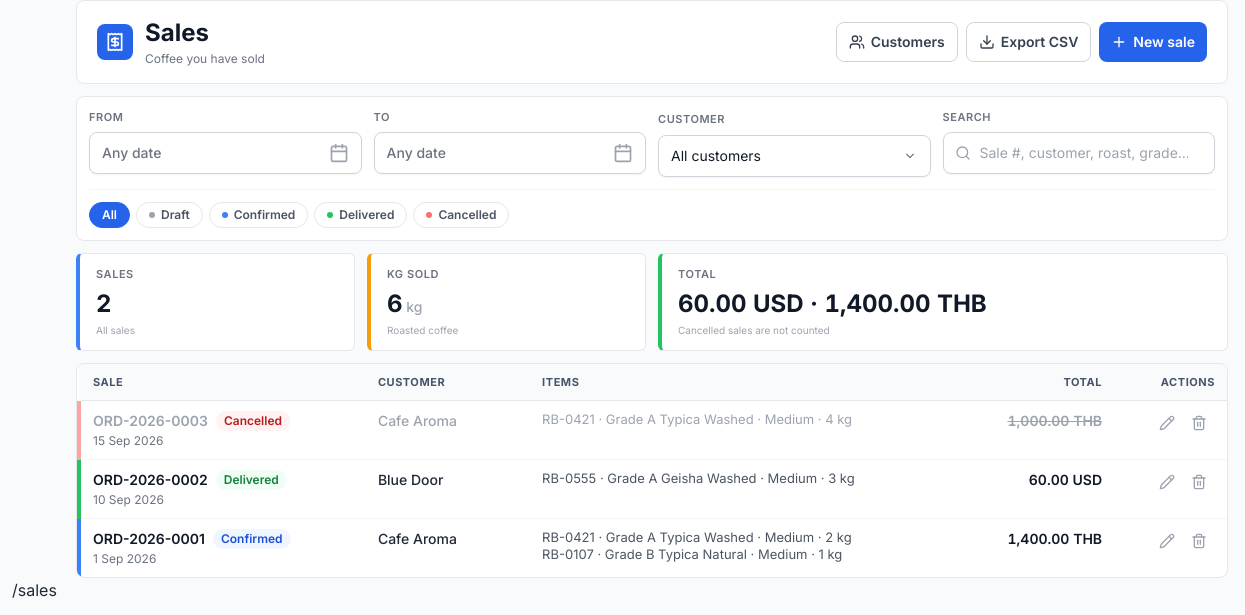
Test case: SalesLog › narrows by customer and keeps the choice in the address
The width and height of the screenshot is (1245, 615).
What coordinates should you click on to do the following:
click the button "All customers"
I would click on:
 (716, 156)
Its box is [658,135,930,177].
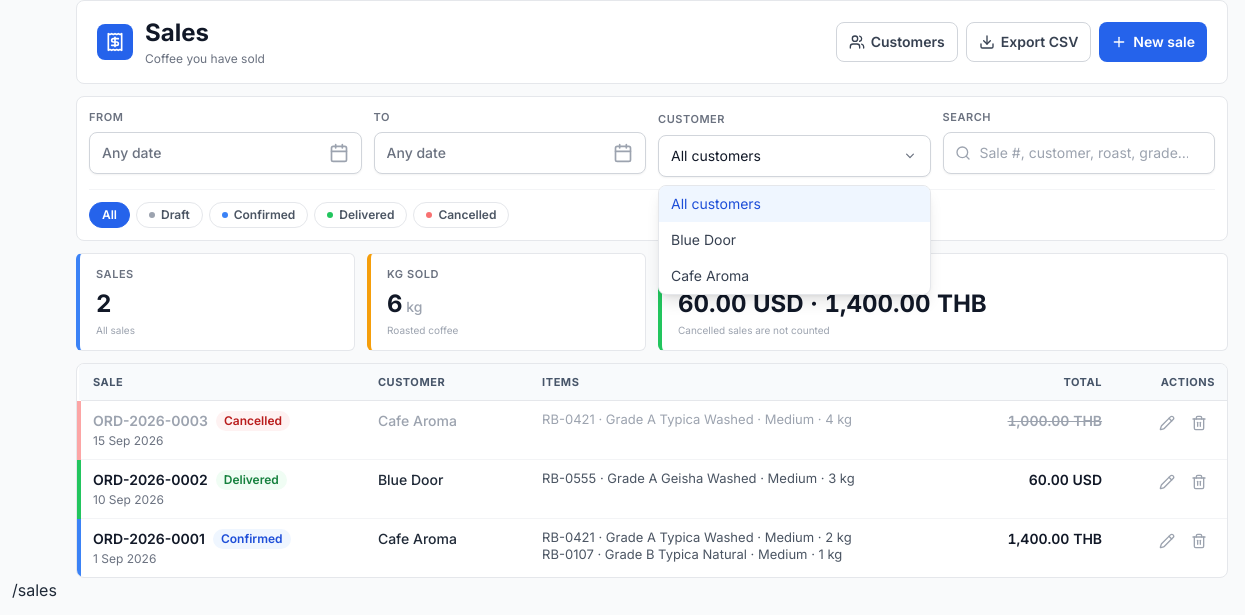
What coordinates should you click on to do the following:
click the button "Blue Door"
I would click on:
 (704, 240)
Its box is [659,222,930,258].
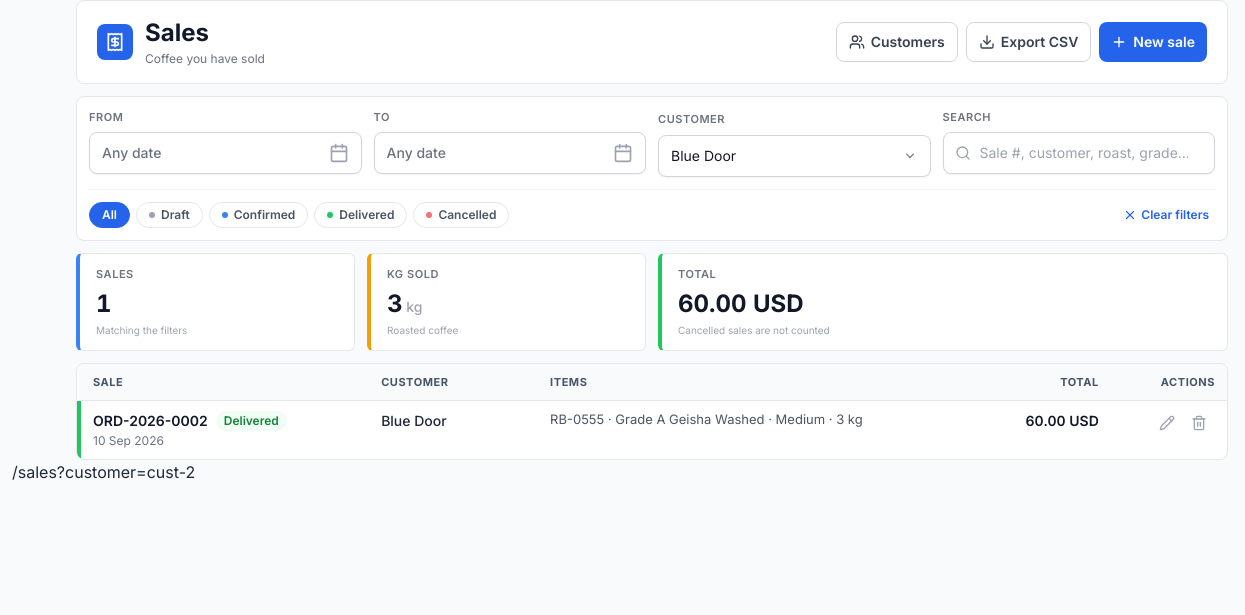
expect the text with test id "location" reads "/sales?customer=cust-2": met, box [12,462,195,482]
